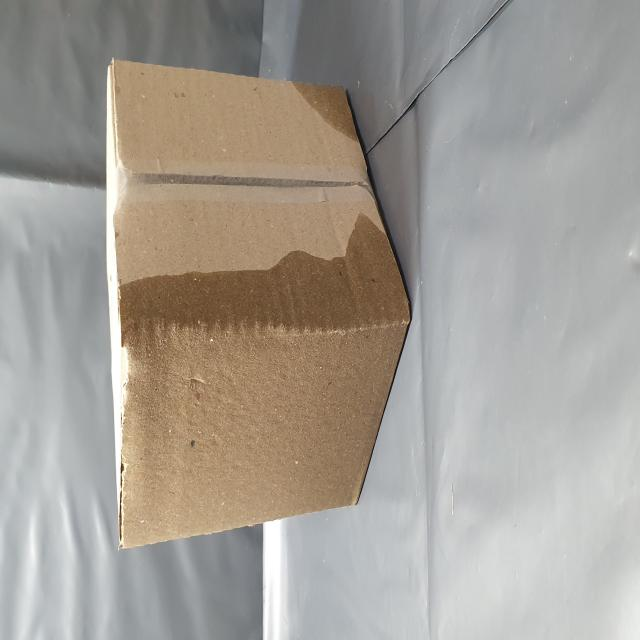wet: (54, 203, 238, 640), (278, 516, 318, 640)
